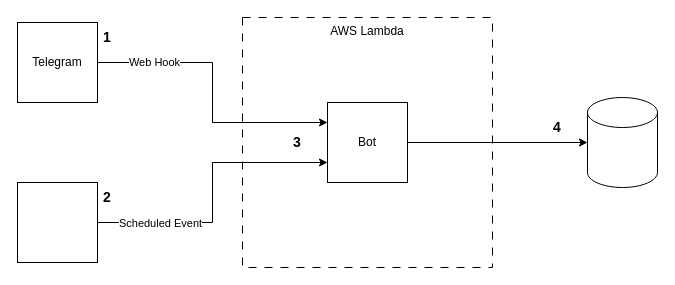
Image size: 675x285. Some labels were removed from this diagram. The centre of each missing label's shape, as x and y in pixels:
"AWS Event Bridge" goes at pixel 57 222.
"DynamoDB" goes at pixel 622 142.
